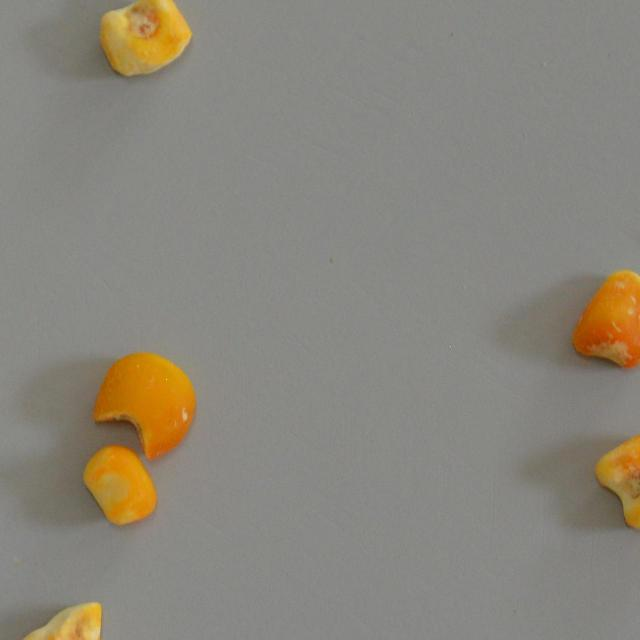dañado: (90, 350, 204, 459), (58, 424, 170, 533), (82, 0, 196, 79), (560, 266, 640, 375), (591, 425, 640, 534), (1, 600, 114, 640)
